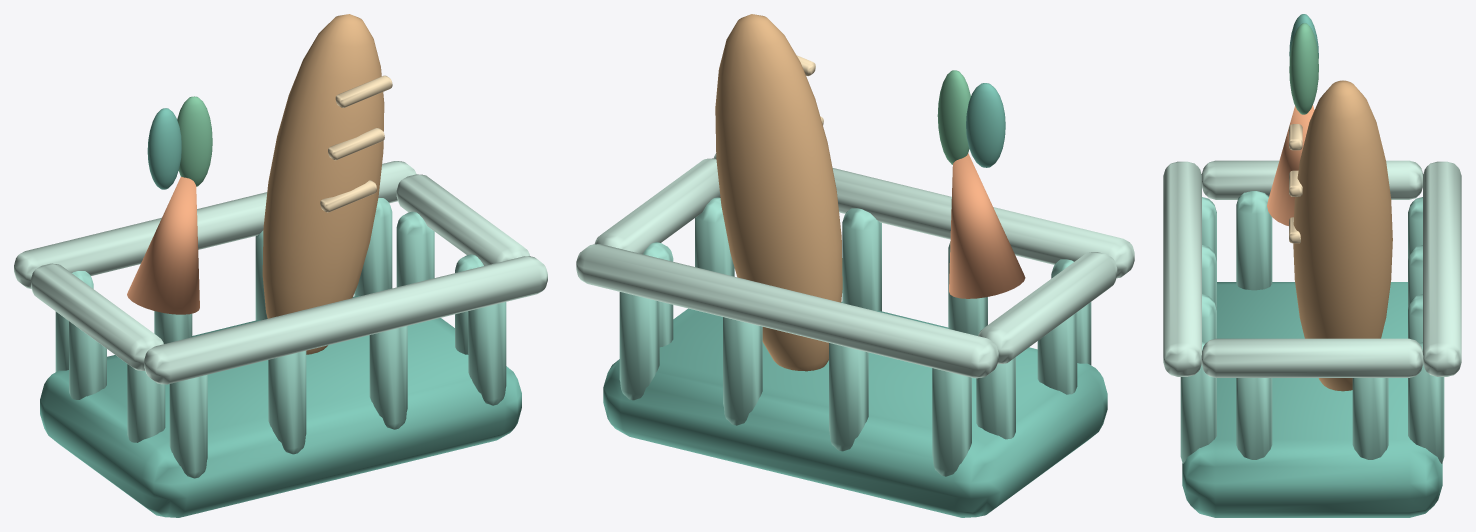
Rendered from mart.glb.
3 views of the same model, side by side, from view 1: azimuth 30°, elevation 25°; view 2: azimuth 150°, elevation 25°; view 3: azimuth 270°, elevation 25° (orthographic). The views are drawn at different scales.
Parts seen in each view (by area): view 1: Basket base, Baguette, Basket lip front, Basket lip back, Carrot, Basket lip right, Basket lip left, Basket front slat 4, Basket front slat 1, Basket front slat 3, Basket front slat 2, Basket left slat 1 (+12 smaller); view 2: Basket base, Baguette, Basket lip back, Basket lip front, Carrot, Basket lip right, Basket lip left, Basket back slat 1, Basket back slat 4, Basket front slat 2, Basket back slat 2, Basket back slat 3 (+8 smaller); view 3: Basket base, Baguette, Basket lip left, Basket lip back, Basket lip front, Basket lip right, Basket right slat 2, Basket left slat 1, Basket left slat 2, Basket back slat 1, Basket front slat 1, Carrot leaf left (+9 smaller).
Boxes of the visible parts, <box> form: Basket base: <box>40,295,521,517</box>; Baguette: <box>262,14,384,354</box>; Basket lip front: <box>144,256,547,384</box>; Basket lip back: <box>14,161,416,288</box>; Carrot: <box>127,176,199,314</box>; Basket lip right: <box>31,263,163,370</box>; Basket lip left: <box>396,174,529,265</box>; Basket front slat 4: <box>169,375,207,478</box>; Basket front slat 1: <box>468,302,506,405</box>; Basket front slat 3: <box>268,351,306,454</box>; Basket front slat 2: <box>369,326,407,429</box>; Basket left slat 1: <box>396,211,434,287</box>; Basket base: <box>603,301,1107,517</box>; Baguette: <box>715,14,842,371</box>; Basket lip back: <box>576,244,998,378</box>; Basket lip front: <box>714,153,1134,278</box>; Carrot: <box>949,153,1025,298</box>; Basket lip right: <box>978,252,1117,364</box>; Basket lip left: <box>594,158,720,254</box>; Basket back slat 1: <box>619,292,659,400</box>; Basket back slat 4: <box>932,368,971,476</box>; Basket front slat 2: <box>842,208,881,311</box>; Basket back slat 2: <box>723,317,762,425</box>; Basket back slat 3: <box>829,343,868,451</box>; Basket base: <box>1182,282,1442,517</box>; Baguette: <box>1293,80,1392,391</box>; Basket lip left: <box>1201,338,1423,377</box>; Basket lip back: <box>1423,161,1461,376</box>; Basket lip front: <box>1163,161,1201,376</box>; Basket lip right: <box>1201,160,1423,199</box>; Basket right slat 2: <box>1236,191,1272,290</box>; Basket left slat 1: <box>1352,378,1388,459</box>; Basket left slat 2: <box>1236,378,1272,459</box>; Basket back slat 1: <box>1408,342,1444,463</box>; Basket front slat 1: <box>1180,342,1216,463</box>; Carrot leaf left: <box>1289,23,1318,114</box>.
Size of the model in its own units: 0.83 by 0.7857 by 0.538.
